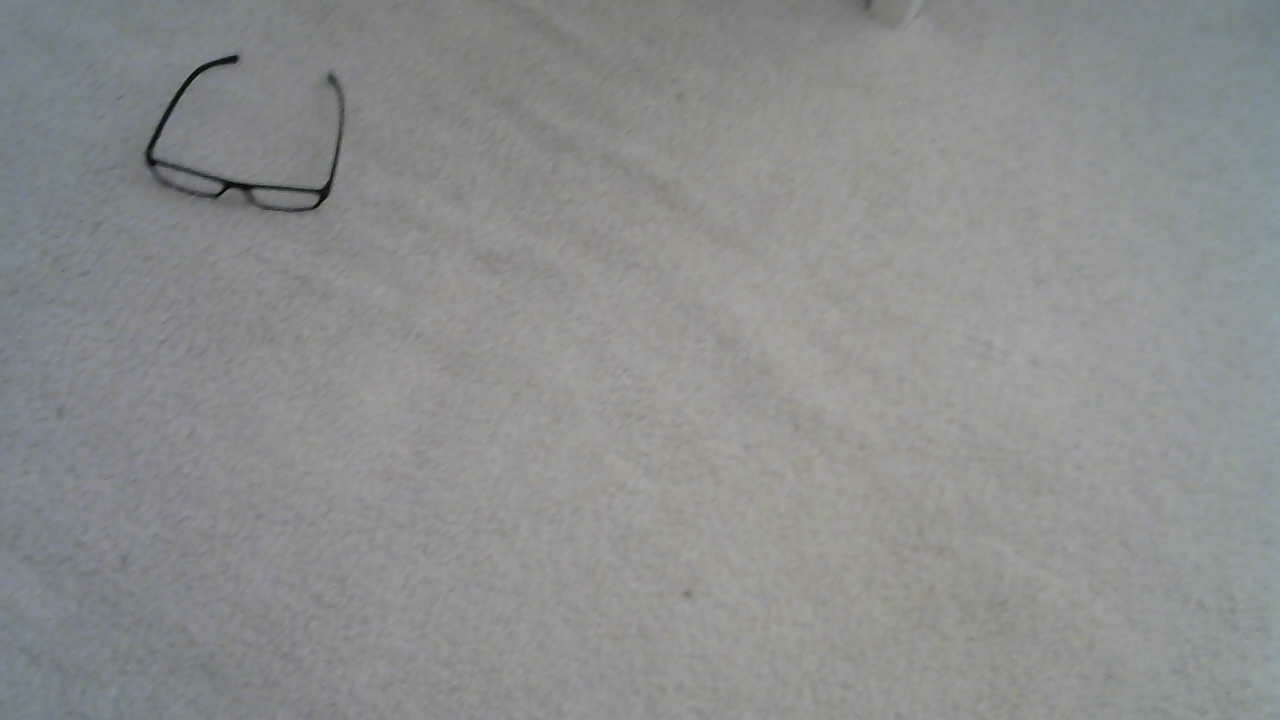Glasses: (113, 27, 381, 227)
